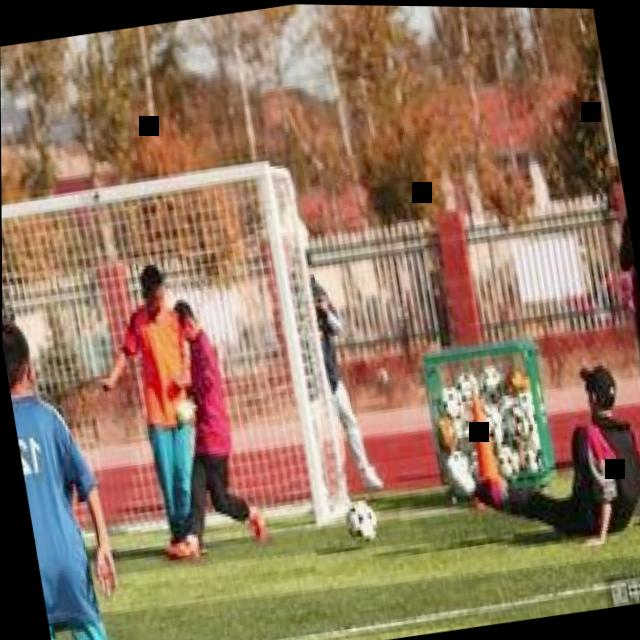Fall-Detected: (423, 331, 640, 561)
